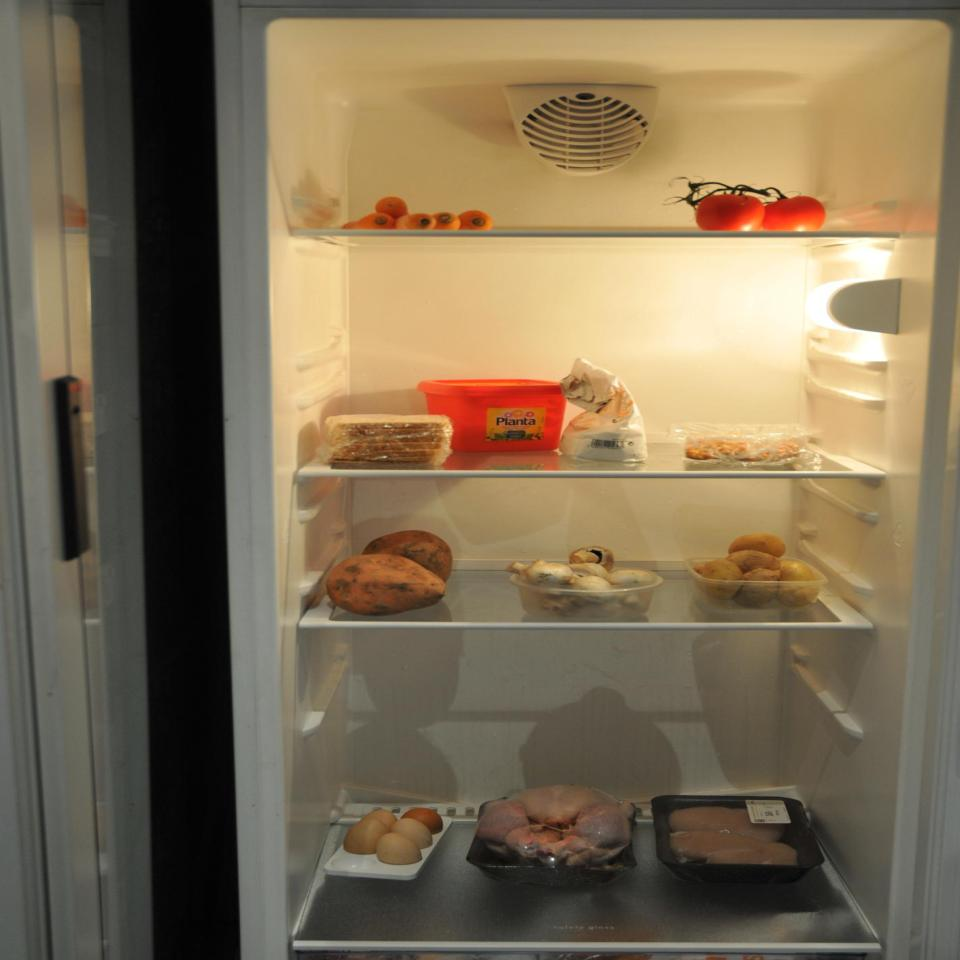Carne pollo: (473, 781, 637, 880), (660, 797, 814, 875)
Huevos: (345, 798, 448, 868)
Mantequilla: (418, 374, 569, 457)
Tomate: (665, 173, 826, 237)
Zanahoria: (343, 192, 496, 235)
